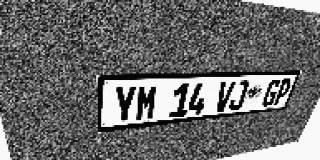1: (169, 83, 192, 118)
4: (187, 82, 210, 116)
G: (260, 79, 282, 107)
J: (228, 81, 250, 111)
M: (135, 84, 159, 121)
P: (272, 79, 293, 106)
V: (213, 81, 236, 113)
Y: (113, 85, 137, 124)
